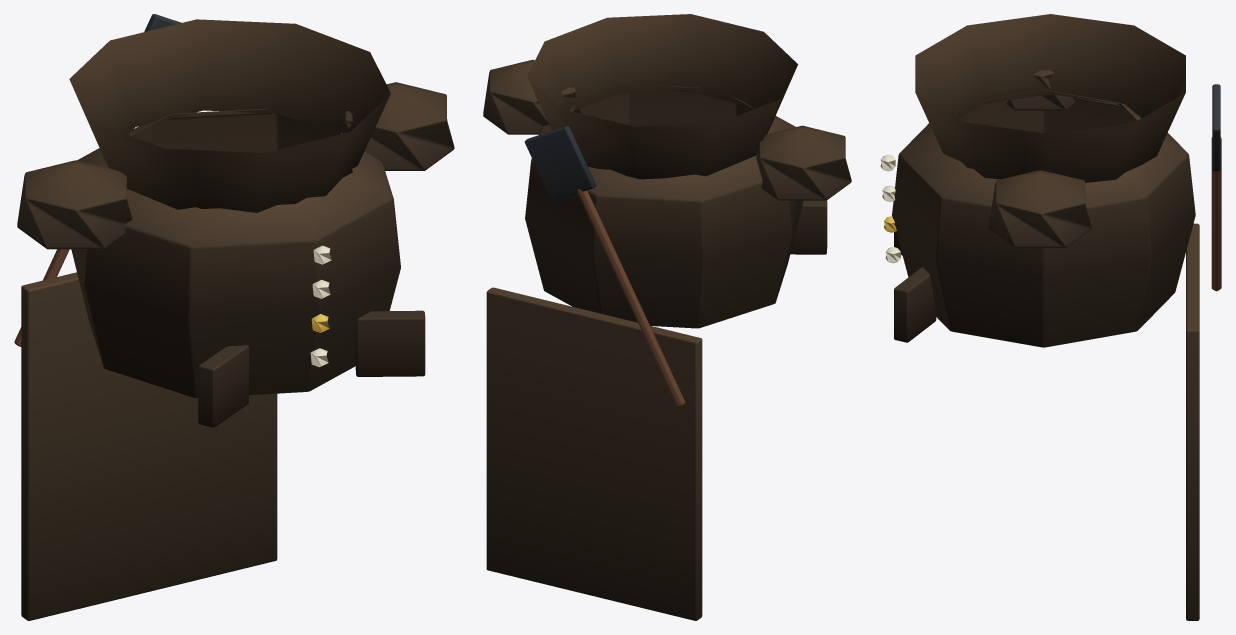
Rendered from lg_gravedigger_coat.glb.
3 views of the same model, side by side, from view 1: azimuth 30°, elevation 25°; view 2: azimuth 150°, elevation 25°; view 3: azimuth 270°, elevation 25° (orthographic). The views are drawn at different scales.
Visible parts, largest first — view 1: lg_gravedigger_coat, lg_gravedigger_coat_trim; view 2: lg_gravedigger_coat; view 3: lg_gravedigger_coat, lg_gravedigger_coat_trim.
Boxes of the visible parts, box(x1,y1,x2,y2) form: lg_gravedigger_coat: box(14, 14, 454, 620); lg_gravedigger_coat_trim: box(310, 245, 331, 367); lg_gravedigger_coat: box(483, 14, 851, 620); lg_gravedigger_coat: box(892, 14, 1221, 620); lg_gravedigger_coat_trim: box(880, 154, 900, 263).
Bounding box in the file's own units: 2.53 × 3.22 × 2.01.
